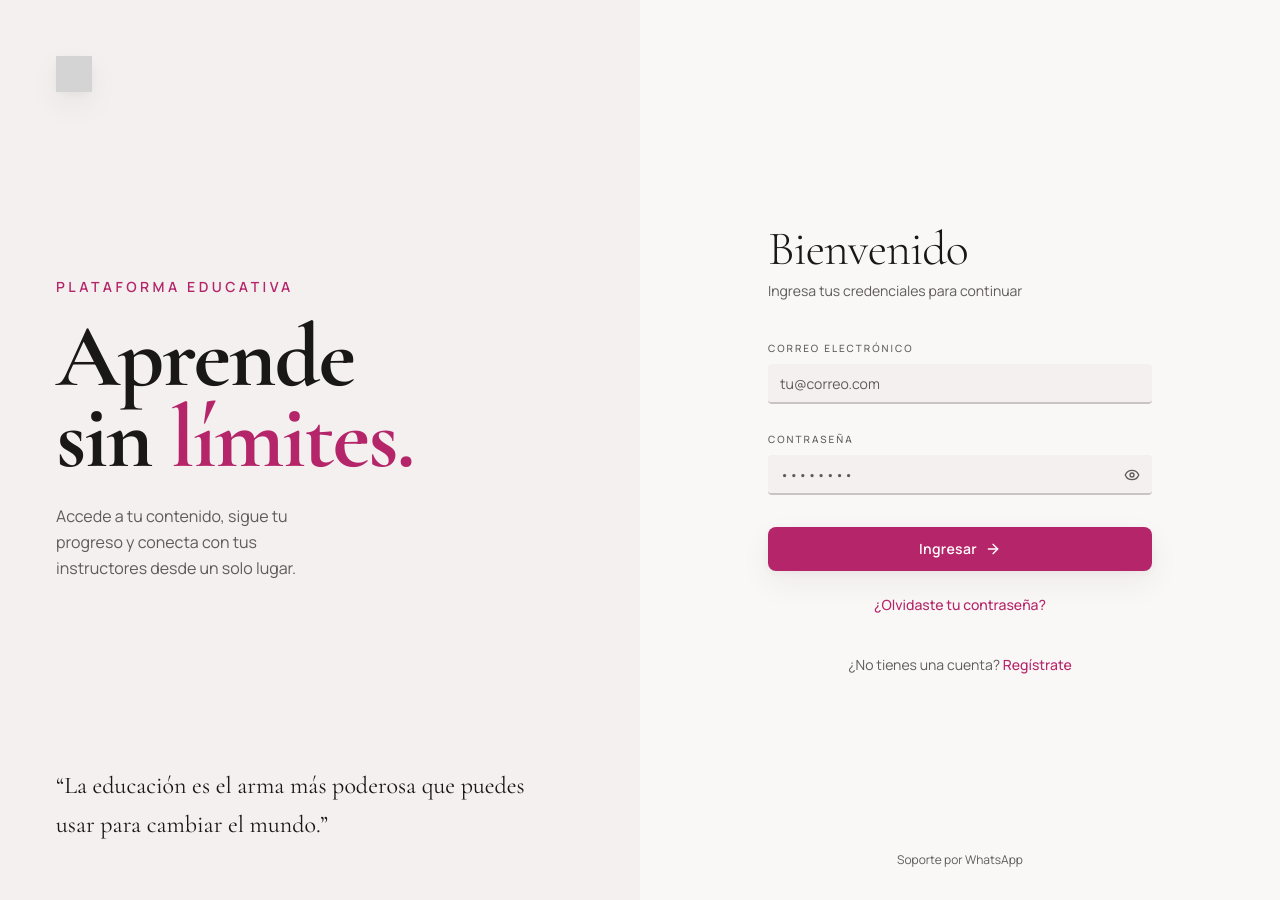
Test: Página de login › rechaza contraseñas de menos de 8 caracteres
Type "admin@imaf.com" into the field labelled "Correo electrónico". click: point(960, 384)
box: [768, 364, 1152, 404]
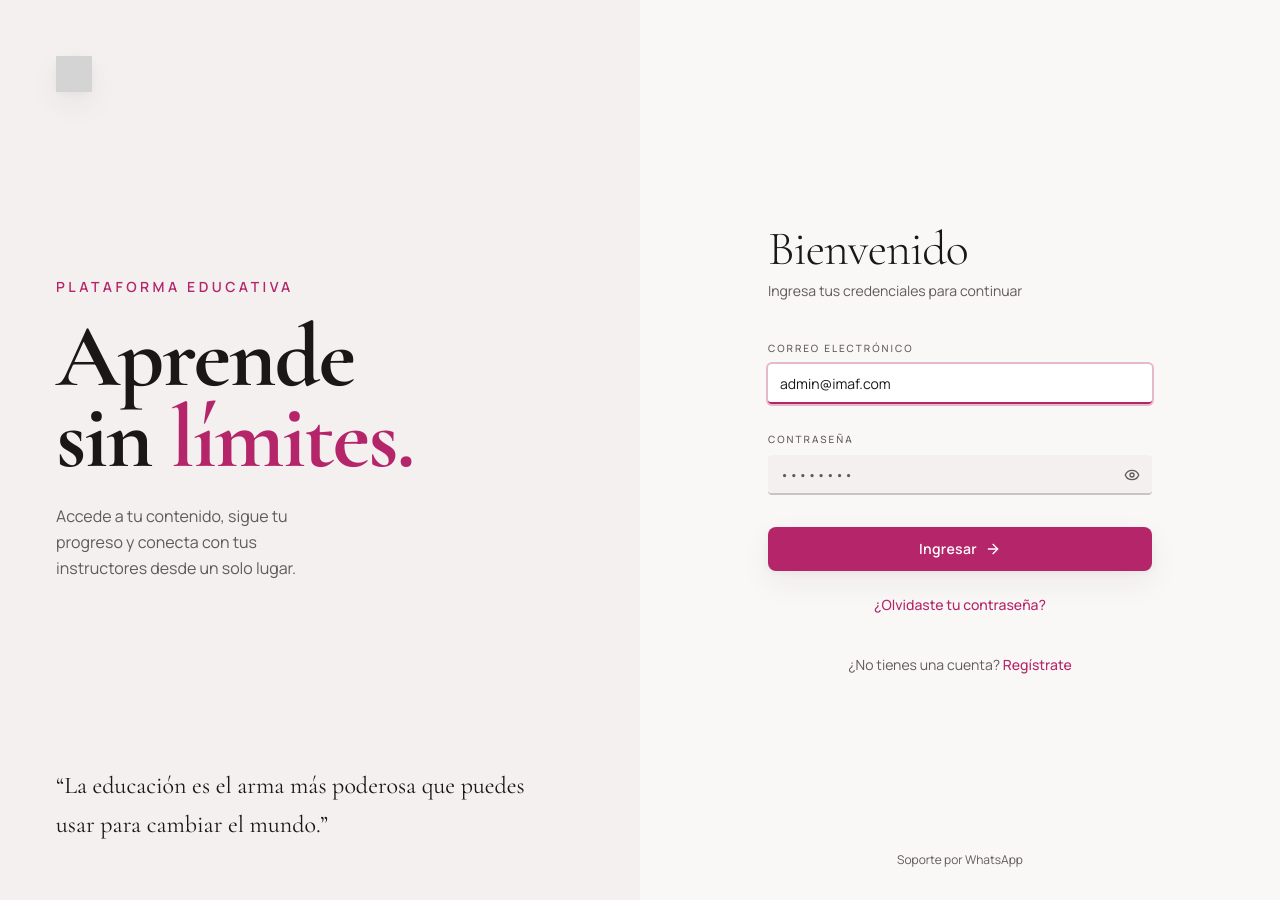
Type "1234567" into the password field labelled "Contraseña". click: point(960, 475)
box: [768, 455, 1152, 495]
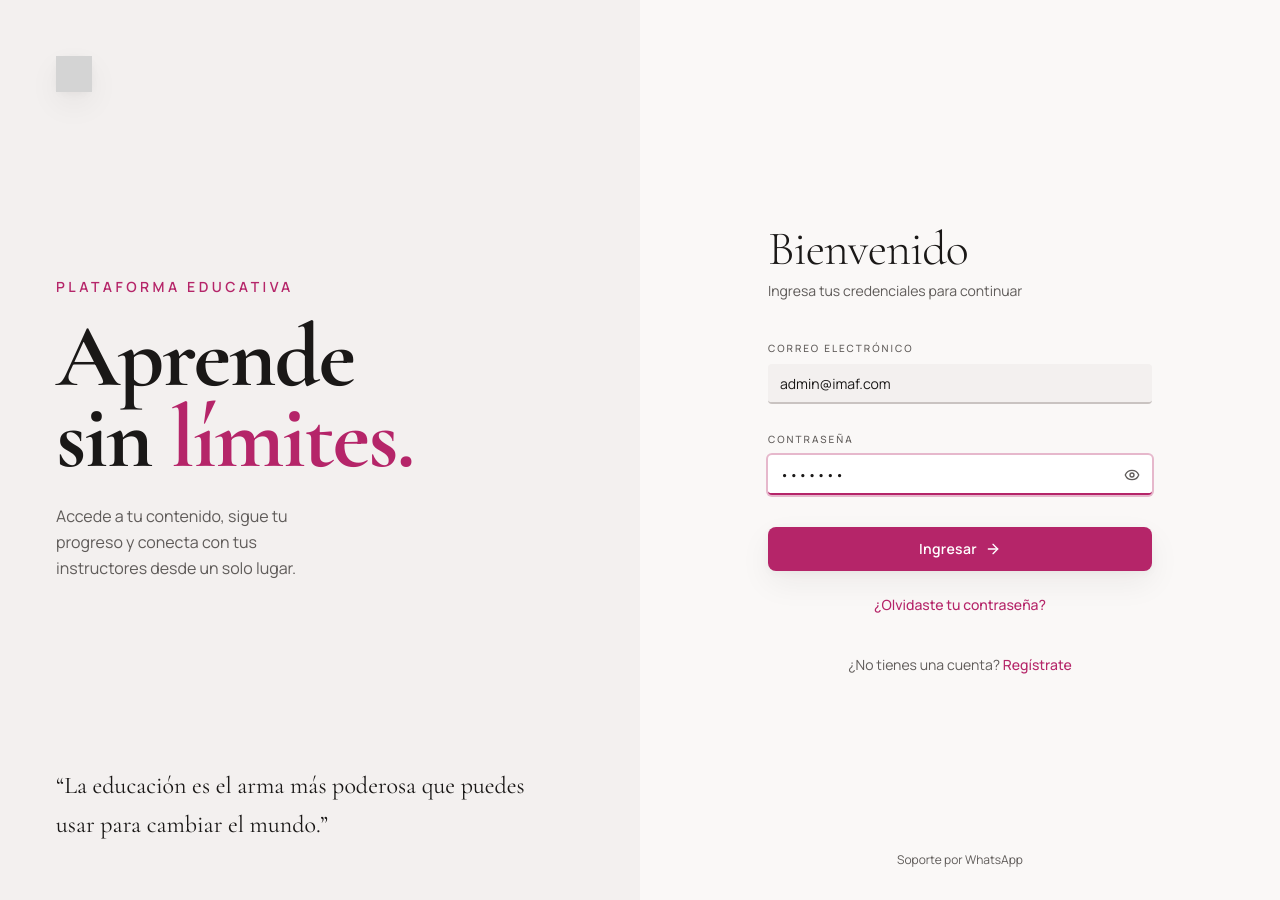
Click the button "Ingresar". click: point(960, 549)
box: [768, 527, 1152, 571]
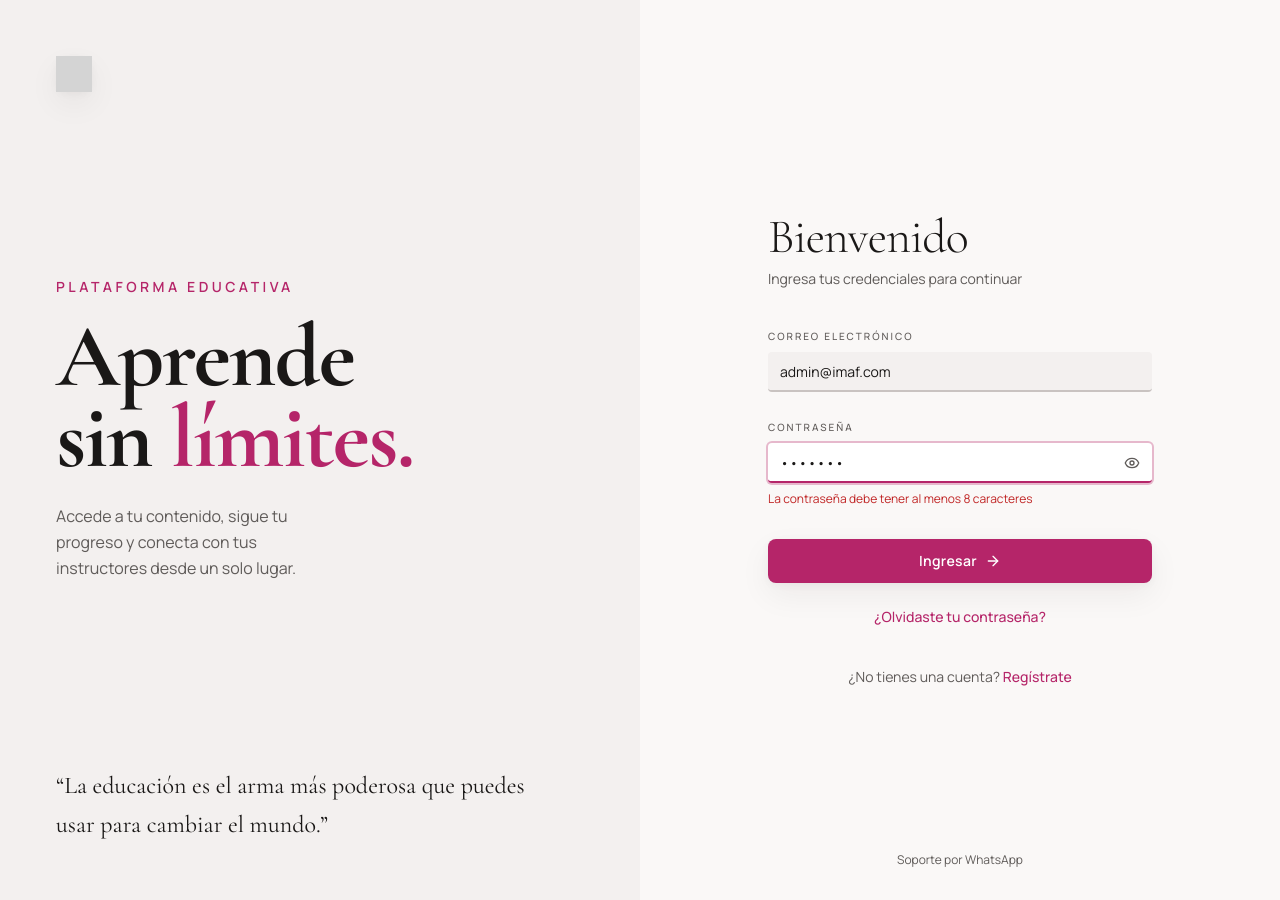
expect the text "La contraseña debe tener al menos 8 caracteres" is shown: met, box [768, 490, 1033, 507]
